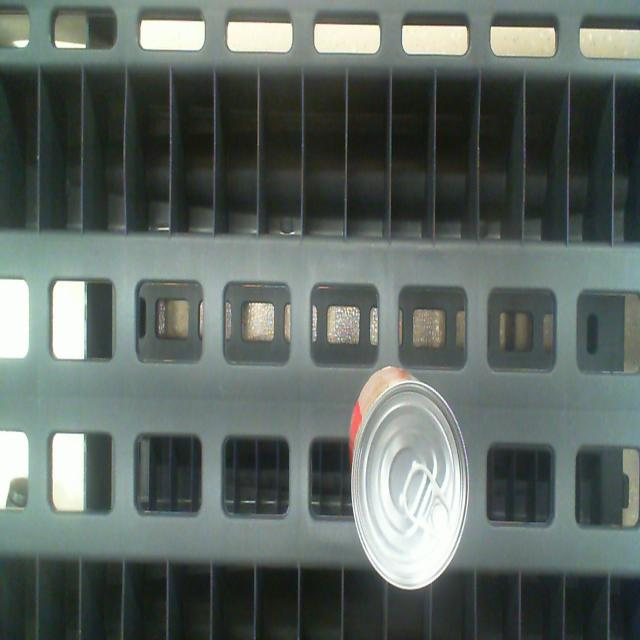can: (351, 382, 469, 590)
